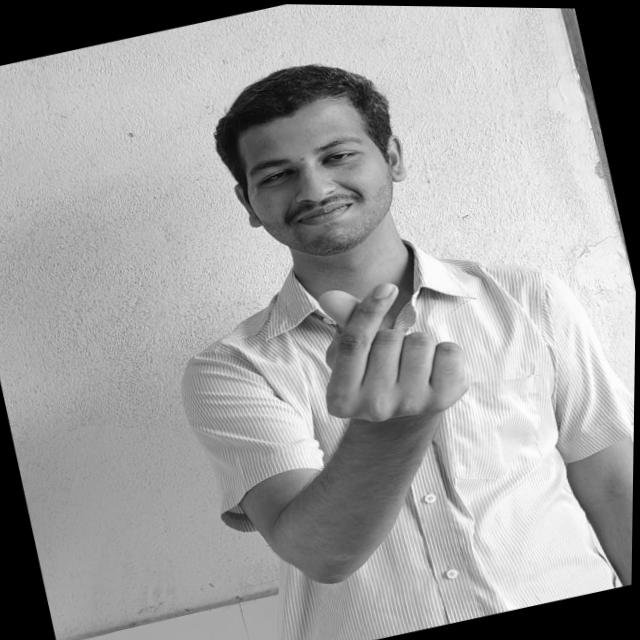Grattitude: (298, 260, 483, 437)
